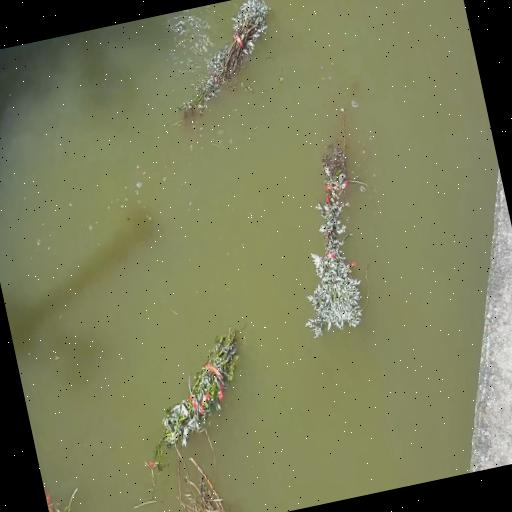twig: (262, 108, 392, 340), (128, 321, 274, 463), (142, 0, 291, 130), (162, 421, 235, 512), (43, 478, 103, 512)
